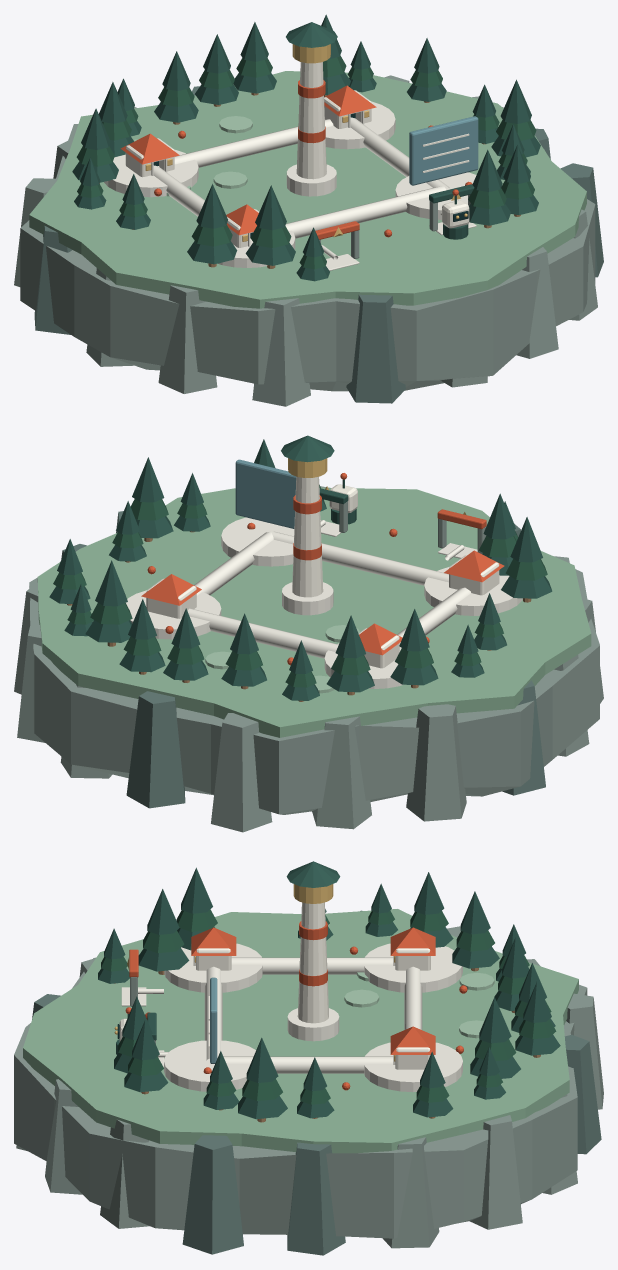
File: chapter-03.glb
3 views of the same model, one above another, from view 1: azimuth 30°, elevation 25°; view 2: azimuth 150°, elevation 25°; view 3: azimuth 270°, elevation 25° (orthographic). The views are drawn at different scales.
Visible parts, largest first — view 1: terrain, rock_base, cliff_facet_12, drafting_board, cliff_facet_11, cliff_facet_10, beacon, cliff_facet_14, route_step_0, route_step_2, landmark_wrapUp, landmark_deepDive (+43 smaller); view 2: terrain, rock_base, cliff_facet_07, cliff_facet_04, cliff_facet_05, cliff_facet_06, drafting_board, beacon, route_step_0, landmark_blueprint, route_step_2, landmark_scope (+44 smaller); view 3: terrain, rock_base, cliff_facet_16, cliff_facet_00, cliff_facet_02, cliff_facet_01, beacon, landmark_blueprint, cliff_facet_04, landmark_wrapUp, landmark_deepDive, landmark_scope (+44 smaller).
Part boxes in pixels (left/top/right/bottom): terrain: left=29, top=71, right=586, bottom=308; rock_base: left=20, top=107, right=595, bottom=391; cliff_facet_12: left=346, top=294, right=405, bottom=403; drafting_board: left=409, top=116, right=478, bottom=185; cliff_facet_11: left=252, top=298, right=310, bottom=406; cliff_facet_10: left=158, top=285, right=217, bottom=393; beacon: left=296, top=62, right=326, bottom=179; cliff_facet_14: left=516, top=247, right=558, bottom=358; route_step_0: left=250, top=186, right=446, bottom=240; route_step_2: left=158, top=119, right=333, bottom=167; landmark_wrapUp: left=104, top=149, right=198, bottom=197; landmark_deepDive: left=325, top=101, right=395, bottom=149; terrain: left=37, top=487, right=591, bottom=737; rock_base: left=29, top=569, right=599, bottom=814; cliff_facet_07: left=406, top=704, right=466, bottom=821; cliff_facet_04: left=126, top=691, right=185, bottom=808; cliff_facet_05: left=211, top=713, right=272, bottom=832; cliff_facet_06: left=312, top=716, right=371, bottom=829; drafting_board: left=235, top=459, right=296, bottom=528; beacon: left=292, top=476, right=323, bottom=597; route_step_0: left=271, top=531, right=448, bottom=585; landmark_blueprint: left=221, top=517, right=294, bottom=566; route_step_2: left=187, top=608, right=338, bottom=658; landmark_scope: left=424, top=567, right=522, bottom=615; terrain: left=23, top=909, right=578, bottom=1153; rock_base: left=14, top=957, right=587, bottom=1238; cliff_facet_16: left=182, top=1135, right=243, bottom=1254; cliff_facet_00: left=287, top=1142, right=345, bottom=1255; cliff_facet_02: left=469, top=1115, right=522, bottom=1229; cliff_facet_01: left=383, top=1137, right=439, bottom=1248; beacon: left=297, top=902, right=328, bottom=1023; landmark_blueprint: left=164, top=1040, right=255, bottom=1091; cliff_facet_04: left=564, top=1034, right=601, bottom=1154; landmark_wrapUp: left=364, top=943, right=462, bottom=992; landmark_deepDive: left=364, top=1042, right=462, bottom=1092; landmark_scope: left=164, top=943, right=262, bottom=992.
Size of the model in its own units: 11.91 by 6.41 by 11.83.
